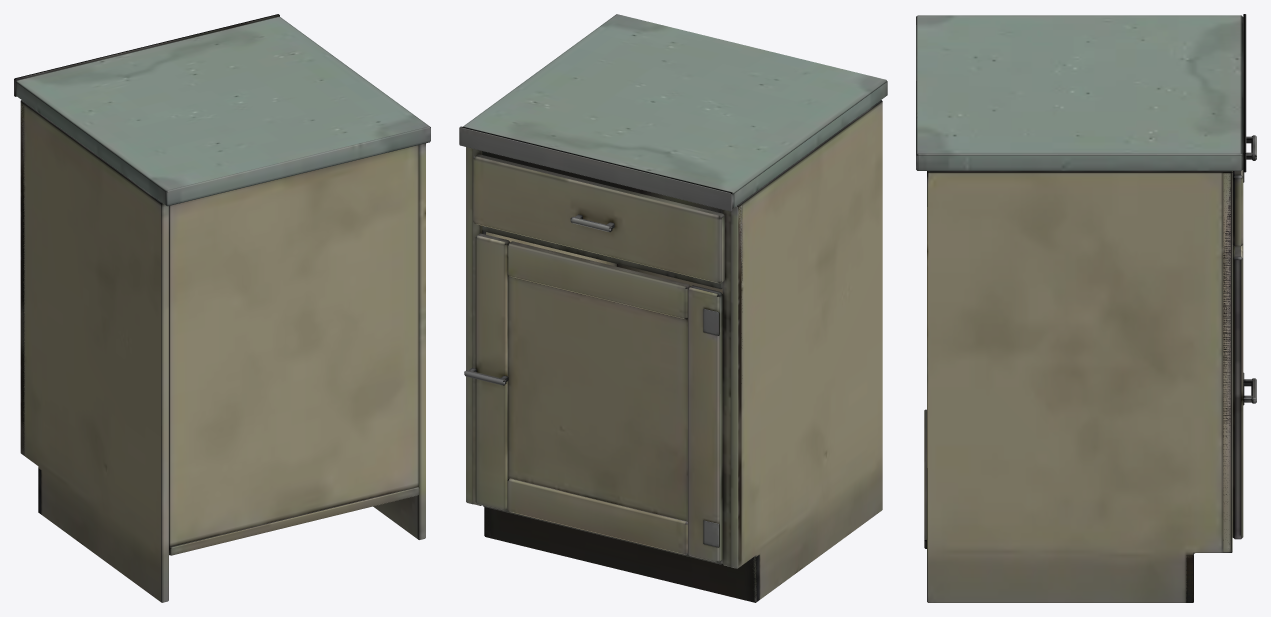
The model's file is furniture_counter_module.glb.
The picture shows the model from 3 angles, left to right: view 1: azimuth 30°, elevation 25°; view 2: azimuth 150°, elevation 25°; view 3: azimuth 270°, elevation 25°; orthographic projection. The views are drawn at different scales.
Visible parts, largest first — view 1: furniture_counter_module; view 2: furniture_counter_module; view 3: furniture_counter_module.
Part boxes in pixels (x1,y1,x2,y2): furniture_counter_module: (14, 14, 430, 602); furniture_counter_module: (459, 14, 887, 602); furniture_counter_module: (916, 14, 1256, 602).
Bounding box in the file's own units: 0.6 × 0.902 × 0.619.
Materials: 1 (1 with a texture image).
